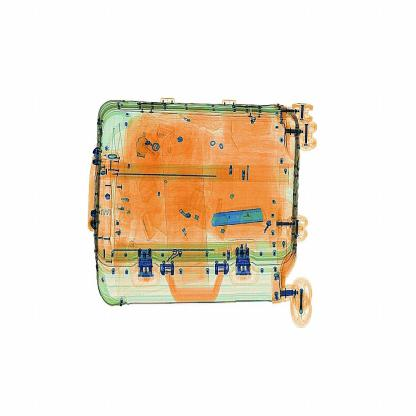pliers: (210, 204, 270, 233)
